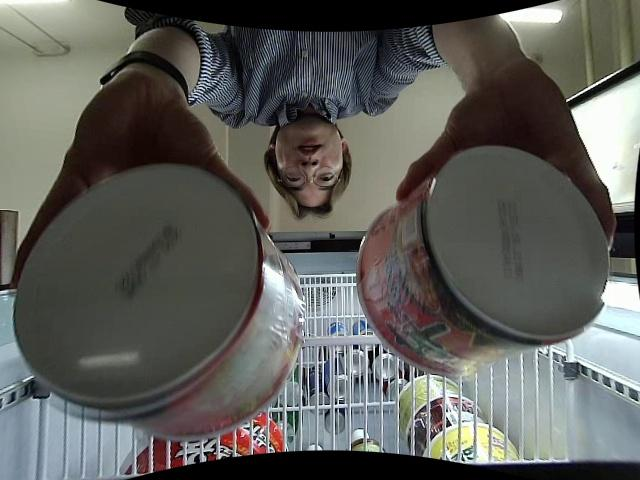00_hand: (12, 85, 270, 298), (397, 82, 616, 254)
01_shinRamen_L: (11, 165, 309, 441), (355, 144, 611, 374)
